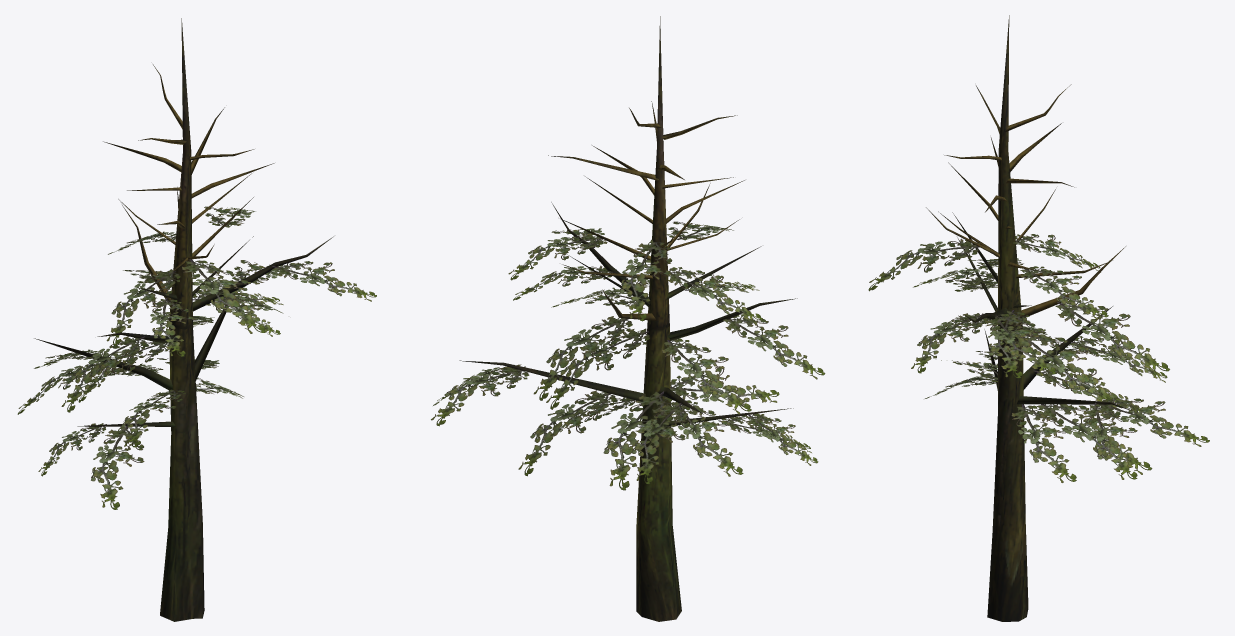
Rendered from dobj_baisu002.FBX.
3 renders of one model, left to right at view 1: azimuth 30°, elevation 25°; view 2: azimuth 150°, elevation 25°; view 3: azimuth 270°, elevation 25°, orthographic.
Visible parts, largest first — view 1: dobj_baisu002; view 2: dobj_baisu002; view 3: dobj_baisu002.
Boxes of the visible parts, x1=… form: dobj_baisu002: x1=17, y1=18, x2=376, y2=621; dobj_baisu002: x1=431, y1=16, x2=825, y2=621; dobj_baisu002: x1=868, y1=15, x2=1209, y2=621.
Size of the model in its own units: 5.44 by 9.55 by 5.17.
